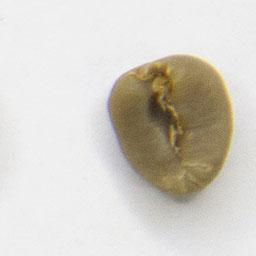premium: (103, 50, 237, 202)
